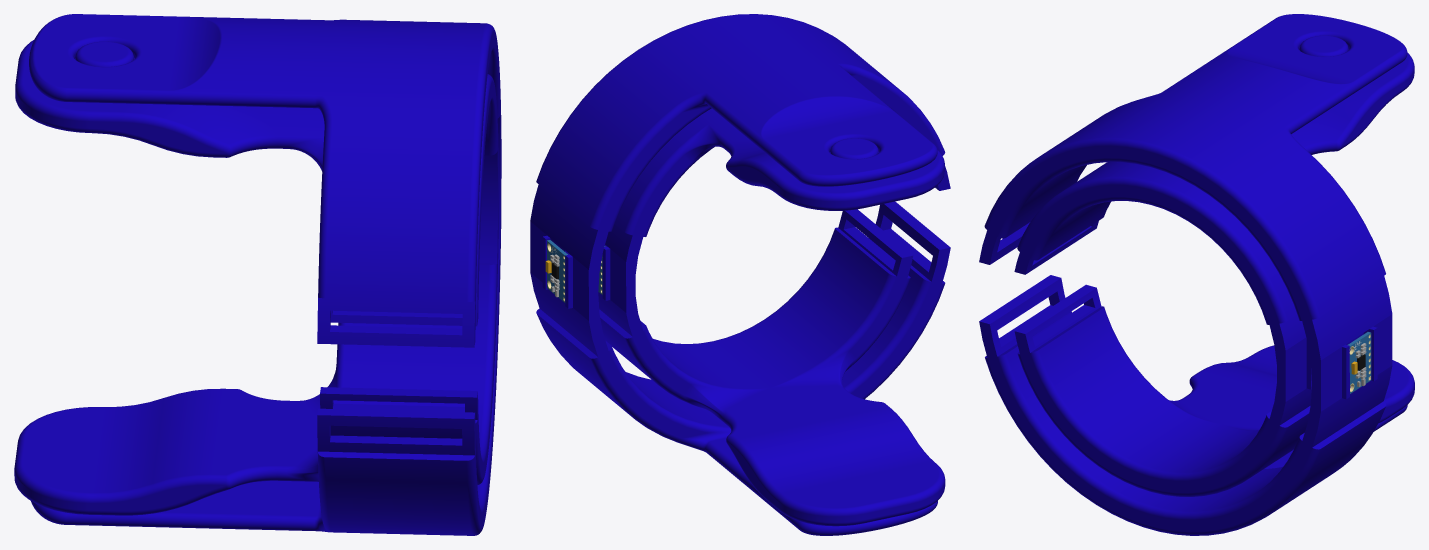
File: PTDeviceAssem.glb
3 views of the same model, side by side, from view 1: azimuth 30°, elevation 25°; view 2: azimuth 150°, elevation 25°; view 3: azimuth 270°, elevation 25° (orthographic). The views are drawn at different scales.
Visible parts, largest first — view 1: UpperLeg-1, LowerLeg-2; view 2: UpperLeg-1, LowerLeg-2, pcb.step-1; view 3: UpperLeg-1, LowerLeg-2, pcb.step-1.
Part boxes in pixels (left/top/right/bottom): UpperLeg-1: left=29, top=14, right=501, bottom=535; LowerLeg-2: left=14, top=40, right=498, bottom=515; UpperLeg-1: left=530, top=14, right=950, bottom=535; LowerLeg-2: left=598, top=108, right=945, bottom=526; pcb.step-1: left=545, top=240, right=567, bottom=302; UpperLeg-1: left=979, top=14, right=1407, bottom=535; LowerLeg-2: left=1014, top=35, right=1414, bottom=496; pcb.step-1: left=1347, top=332, right=1371, bottom=393.
Bounding box in the file's own units: 0.1806 × 0.1656 × 0.1694.
